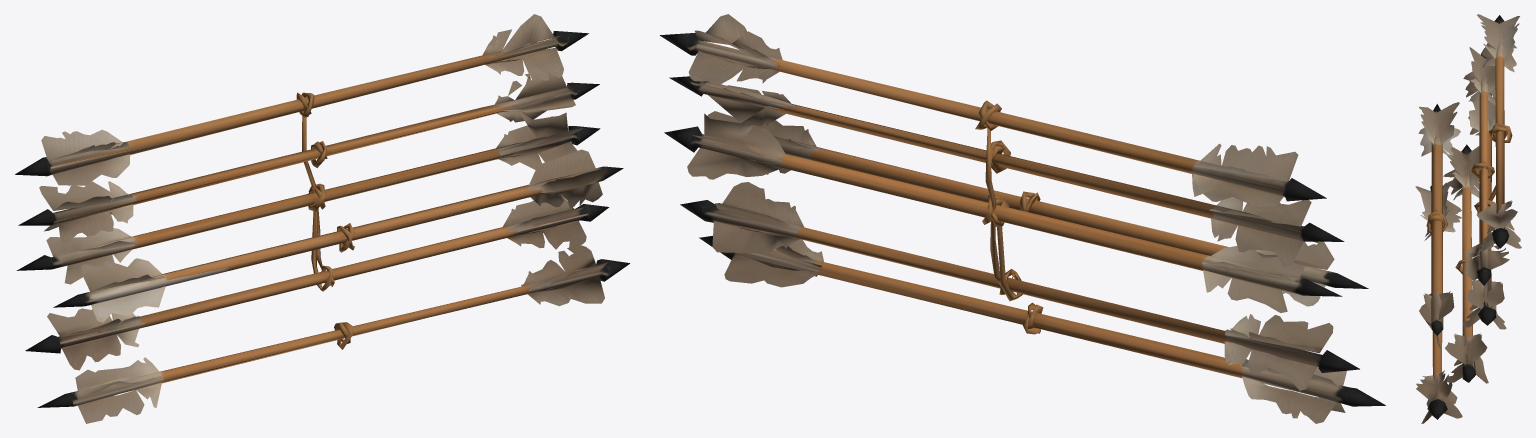
The model's file is arrow_set.glb.
The picture shows the model from 3 angles, left to right: view 1: azimuth 30°, elevation 25°; view 2: azimuth 150°, elevation 25°; view 3: azimuth 270°, elevation 25°; orthographic projection. The views are drawn at different scales.
Visible parts, largest first — view 1: arrow_set_LOD0; view 2: arrow_set_LOD0; view 3: arrow_set_LOD0.
Part boxes in pixels (x1=…): arrow_set_LOD0: x1=15, y1=14, x2=629, y2=423; arrow_set_LOD0: x1=660, y1=14, x2=1385, y2=423; arrow_set_LOD0: x1=1415, y1=14, x2=1521, y2=423.
Size of what is drawn, in the model's own units: 0.75 by 0.3021 by 0.1402.
Materials: 1 (1 with a texture image).
